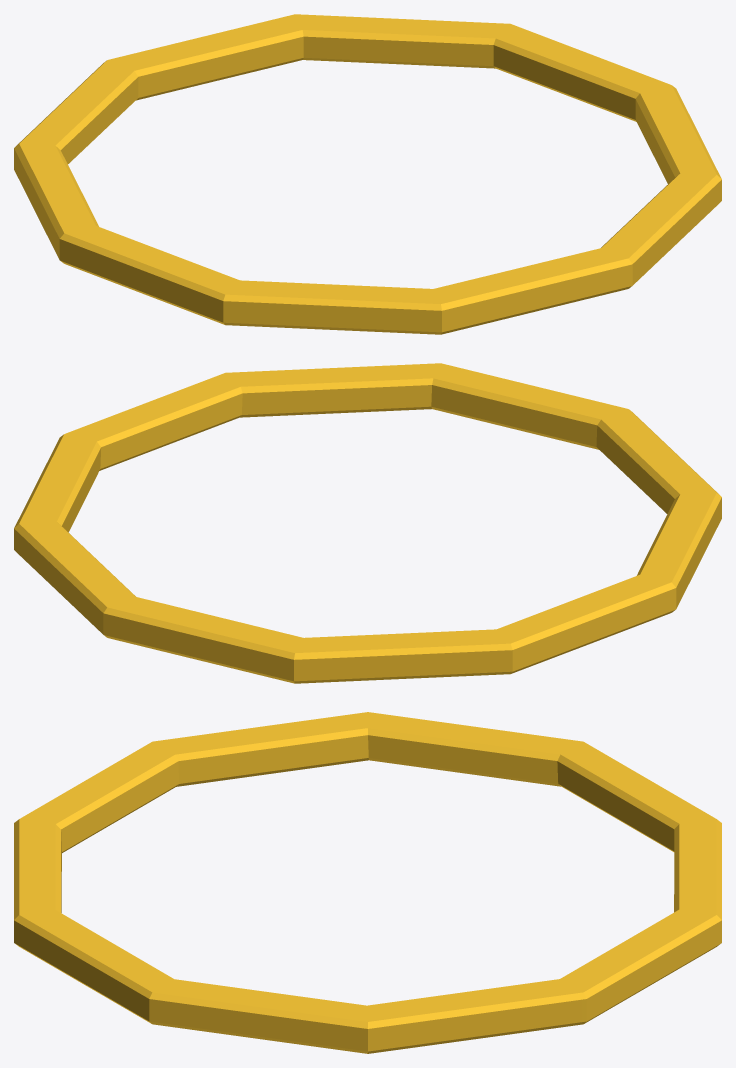
The model's file is obstacle_circle.fbx.
3 views of the same model, one above another, from view 1: azimuth 30°, elevation 25°; view 2: azimuth 150°, elevation 25°; view 3: azimuth 270°, elevation 25° (orthographic). The views are drawn at different scales.
Visible parts, largest first — view 1: obstacle_circle; view 2: obstacle_circle; view 3: obstacle_circle.
Boxes of the visible parts, left/top/right/bottom form: obstacle_circle: left=14, top=14, right=721, bottom=334; obstacle_circle: left=14, top=363, right=721, bottom=683; obstacle_circle: left=14, top=712, right=721, bottom=1053.
Bounding box in the file's own units: 1.43 × 0.0677 × 1.36.
Materials: 1 (1 with a texture image).
